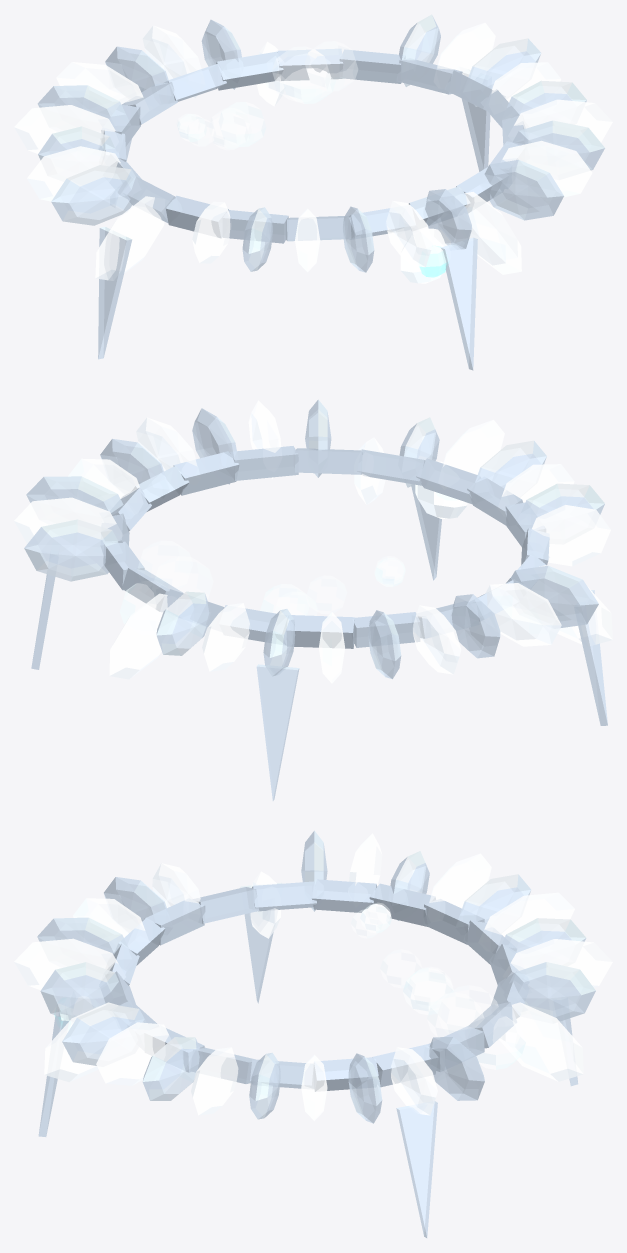
File: fog_courtier_ruff.glb
3 renders of one model, top to bottom at view 1: azimuth 30°, elevation 25°; view 2: azimuth 150°, elevation 25°; view 3: azimuth 270°, elevation 25°, orthographic. The views are drawn at different scales.
Parts seen in each view (by area): view 1: fog_courtier_ruff; view 2: fog_courtier_ruff; view 3: fog_courtier_ruff.
Part boxes in pixels (box(x1,y1,x2,y2)): fog_courtier_ruff: box(14, 14, 612, 370); fog_courtier_ruff: box(14, 399, 612, 800); fog_courtier_ruff: box(14, 830, 612, 1237).
Size of the model in its own units: 1.18 by 0.3655 by 1.14.
